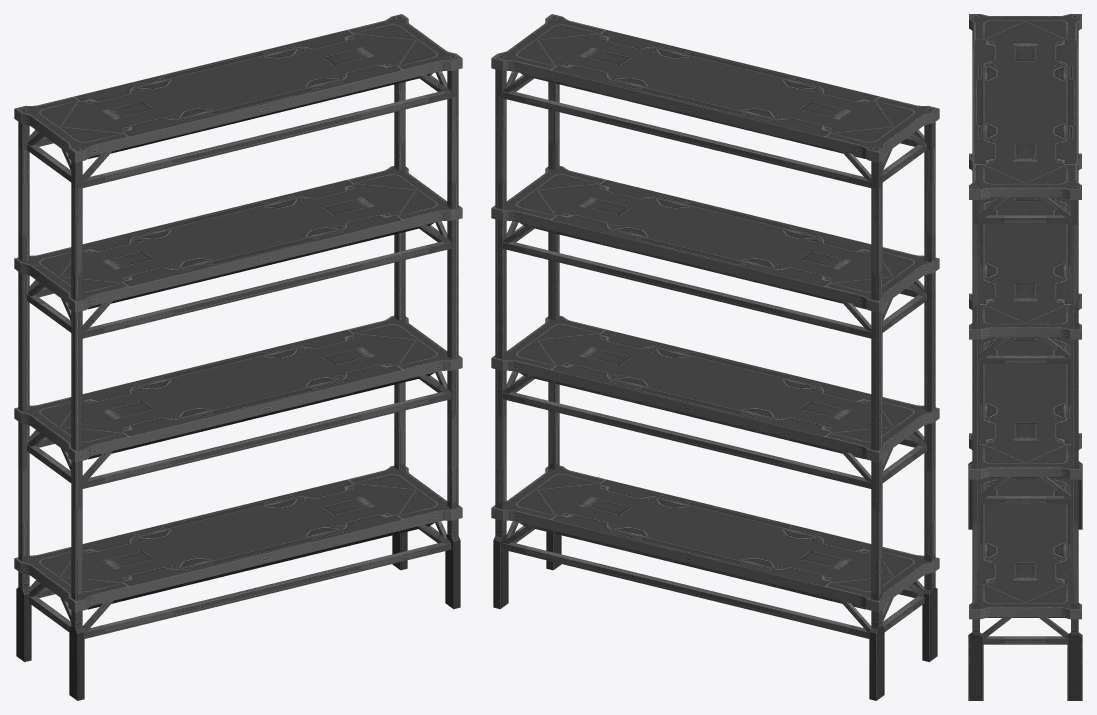
The picture shows the model from 3 angles, left to right: view 1: azimuth 30°, elevation 25°; view 2: azimuth 150°, elevation 25°; view 3: azimuth 270°, elevation 25°; orthographic projection. The views are drawn at different scales.
Visible parts, largest first — view 1: Prop_Shelves_WideTall; view 2: Prop_Shelves_WideTall; view 3: Prop_Shelves_WideTall.
Part boxes in pixels (<box>): Prop_Shelves_WideTall: <box>14,14,462,700</box>; Prop_Shelves_WideTall: <box>491,14,939,700</box>; Prop_Shelves_WideTall: <box>968,14,1082,700</box>.
Bounding box in the file's own units: 1.38 × 1.87 × 0.3787.
Materials: 1 (1 with a texture image).
